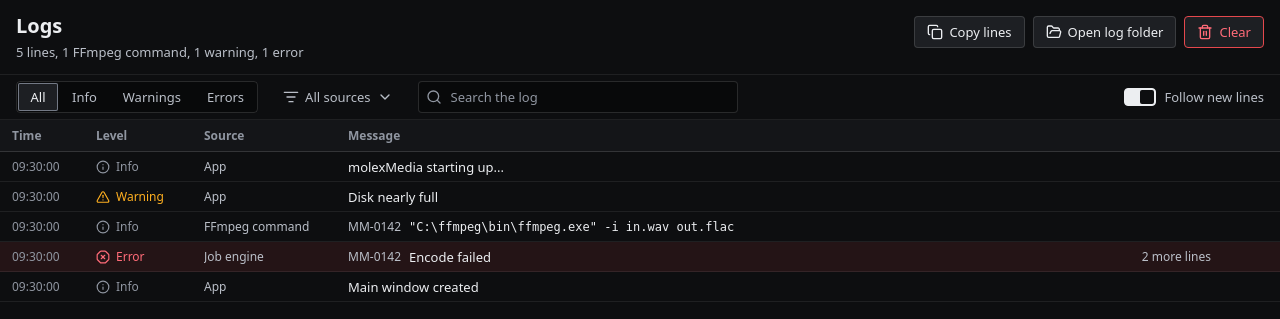
Test case: LogViewer header and toolbar › searches, shows the filtered-empty state, and clears every filter from it
Type "permission" into the search field labelled "Search the log". click: (578, 97)
box: left=418, top=81, right=738, bottom=113
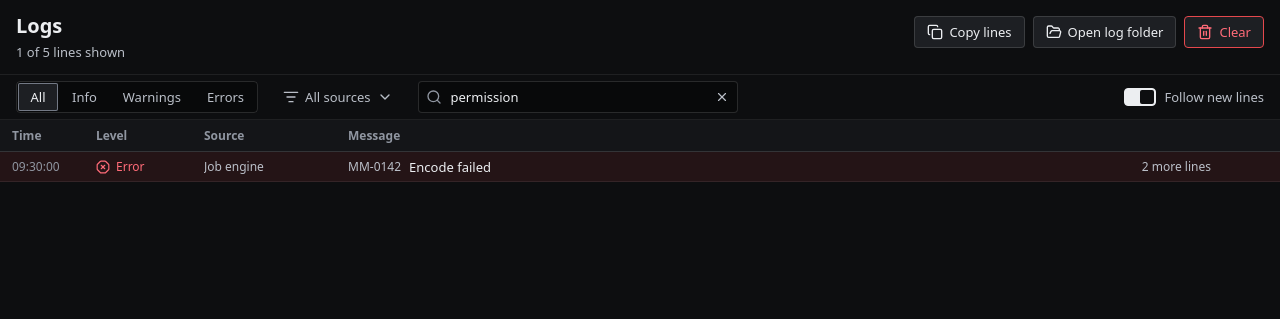
Replace the text in the search field named "Search the log" with "nothing like this". click: (578, 97)
box: left=418, top=81, right=738, bottom=113
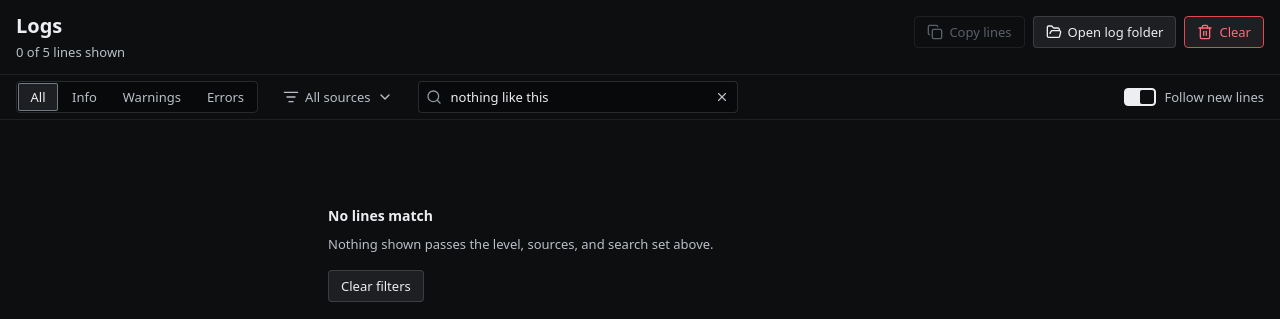
Result: the element that starts with "No lines match" is shown at left=328, top=206, right=714, bottom=302
Result: the heading "No lines match" is shown at left=328, top=206, right=433, bottom=226
Click the button "Clear filters". click: (376, 286)
box: left=328, top=270, right=424, bottom=302
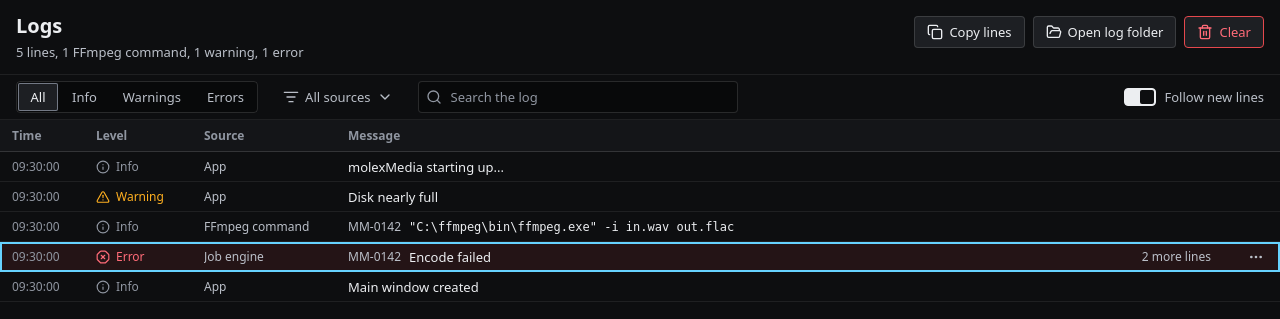
Result: the search field labelled "Search the log" is empty at left=418, top=81, right=738, bottom=113
